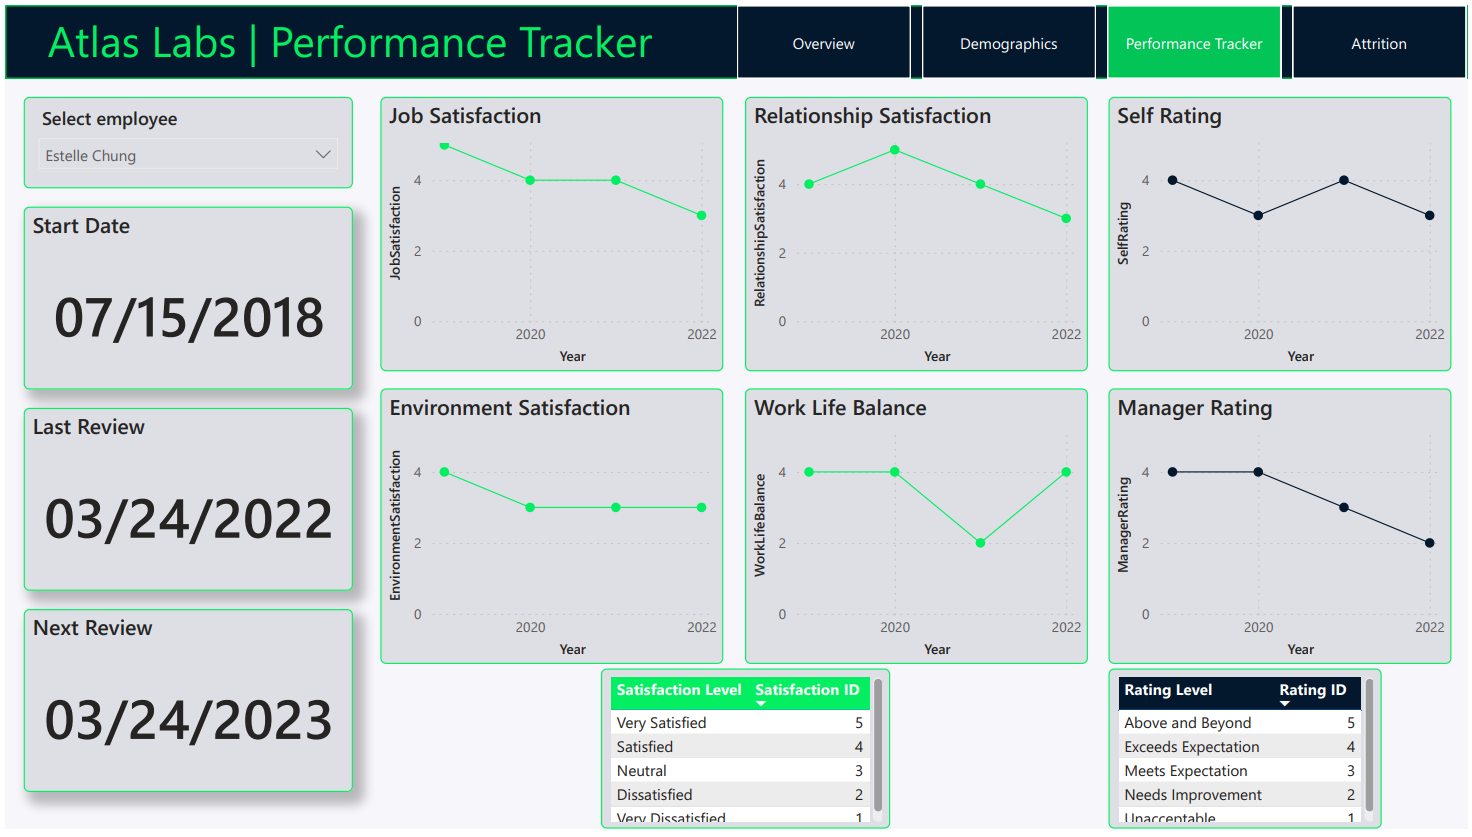

The page's visual inventory and layout, read from the dashboard file:
{"tool":"powerbi","page":{"name":"Performance Tracker","canvas":[1280,720],"ordinal":2},"visuals":[{"type":"shape","box":[0,0,1280,64],"z":0},{"type":"textbox","box":[32,0,624,64],"z":1000},{"type":"pageNavigator","box":[640,0,640,64],"z":2000},{"type":"slicer","fields":{"Values":["DimEmployee.FullName"]},"box":[16,80,288,80],"z":3000},{"type":"card","title":"Start Date","fields":{"Values":["Min(DimEmployee.HireDate)"]},"box":[16,176,288,160],"z":4000},{"type":"card","title":"Last Review","fields":{"Values":["_Measures.LastReviewDate"]},"box":[16,352,288,160],"z":5000},{"type":"card","title":"Next Review","fields":{"Values":["_Measures.NextReviewDate"]},"box":[16,528,288,160],"z":6000},{"type":"lineChart","title":"Job Satisfaction","fields":{"Y":["_Measures.JobSatisfaction"],"Category":["DimDate.Year"]},"box":[328.3,79.8,300,240.3],"z":7000},{"type":"lineChart","title":"Relationship Satisfaction","fields":{"Y":["_Measures.RelationshipSatisfaction"],"Category":["DimDate.Year"]},"box":[646.9,79.8,300,240.3],"z":8000},{"type":"lineChart","title":"Self Rating","fields":{"Y":["_Measures.SelfRating"],"Category":["DimDate.Year"]},"box":[965.5,79.8,299.7,240.3],"z":9000},{"type":"lineChart","title":"Work Life Balance","fields":{"Y":["_Measures.WorkLifeBalance"],"Category":["DimDate.Year"]},"box":[647.4,335.5,299.7,240.3],"z":10000},{"type":"lineChart","title":"Manager Rating","fields":{"Y":["_Measures.ManagerRating"],"Category":["DimDate.Year"]},"box":[965.5,335.5,299.7,240.3],"z":11000},{"type":"lineChart","title":"Environment Satisfaction","fields":{"Y":["_Measures.EnvironmentSatisfaction"],"Category":["DimDate.Year"]},"box":[328.3,335.5,300,240.3],"z":12000},{"type":"tableEx","fields":{"Values":["DimRatingLevel.RatingLevel","DimRatingLevel.RatingID"]},"box":[965.2,579.6,239.2,140.4],"z":13000},{"type":"tableEx","fields":{"Values":["DimSatisfiedLevel.SatisfactionLevel","DimSatisfiedLevel.SatisfactionID"]},"box":[521.3,579.6,252.3,140.4],"z":14000}]}

Visuals, with their boxes in screenshot pixels (x1, y1, x2, y2), scaled from the page's 1280x720 canvas onto the 1472x837 screenshot:
shape: 0/0/1471/74
textbox: 37/0/754/74
pageNavigator: 736/0/1471/74
slicer - DimEmployee.FullName: 18/93/350/186
"Start Date" card: 18/205/350/391
"Last Review" card: 18/409/350/595
"Next Review" card: 18/614/350/800
"Job Satisfaction" lineChart: 378/93/723/372
"Relationship Satisfaction" lineChart: 744/93/1089/372
"Self Rating" lineChart: 1110/93/1455/372
"Work Life Balance" lineChart: 745/390/1089/669
"Manager Rating" lineChart: 1110/390/1455/669
"Environment Satisfaction" lineChart: 378/390/723/669
tableEx - DimRatingLevel.RatingLevel x DimRatingLevel.RatingID: 1110/674/1385/836
tableEx - DimSatisfiedLevel.SatisfactionLevel x DimSatisfiedLevel.SatisfactionID: 599/674/890/836
